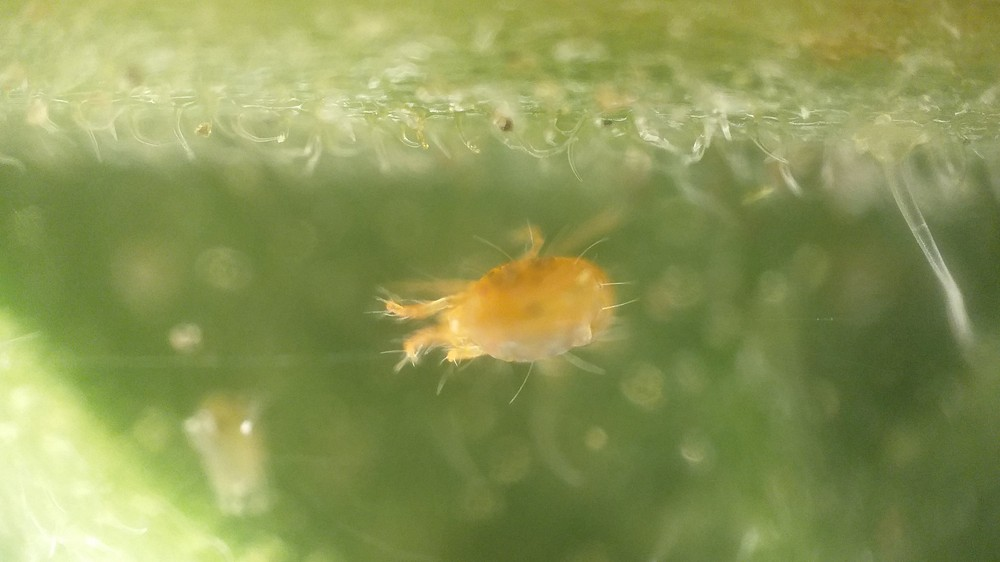Aracnido Rojo: (371, 213, 650, 402)
